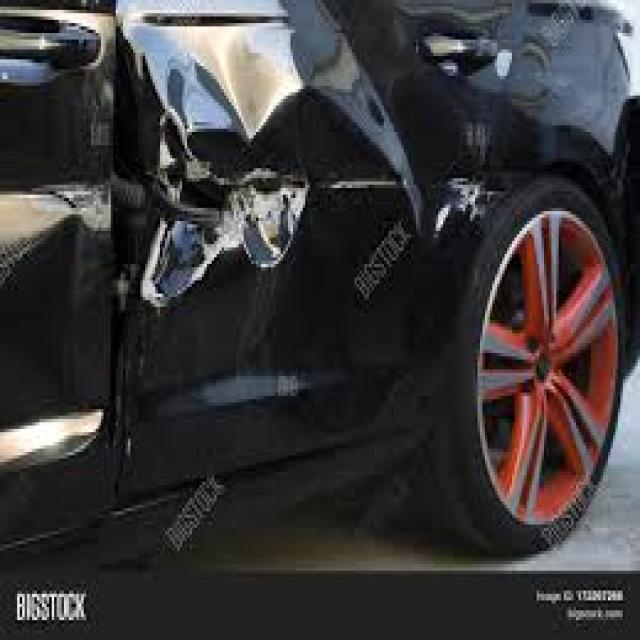moderate: (127, 38, 551, 443)
